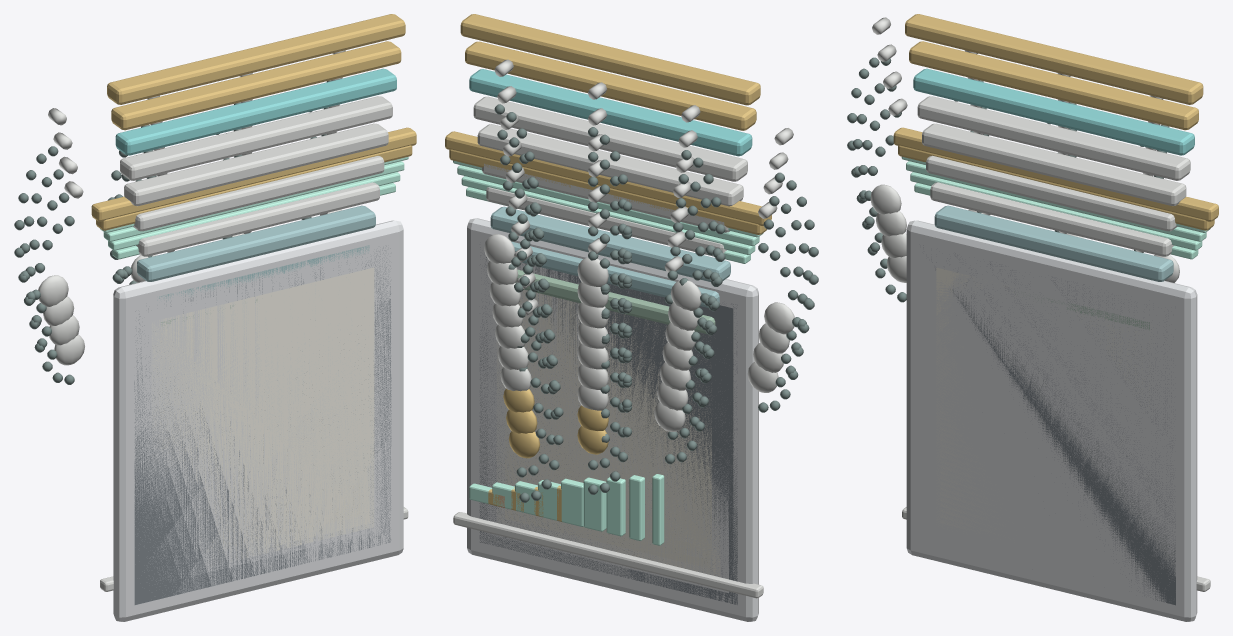
Rendered from Gear12.fbx.
The picture shows the model from 3 angles, left to right: view 1: azimuth 30°, elevation 25°; view 2: azimuth 150°, elevation 25°; view 3: azimuth 330°, elevation 25°; orthographic projection.
Parts seen in each view (by area): view 1: Gear12_V10_Platinum, Gear12_V4_Linen, Gear12_V3_Linen, Gear12_V8_Graphite, Gear12_V10_Gold, Gear12_V9_Platinum, Gear12_V9_Gold, Gear12_V7_Chrome, Gear12_V8_Aqua, Gear12_V6_Chrome, Gear12_V3_Blue, Gear12_V5_Platinum (+14 smaller); view 2: Gear12_V10_Platinum, Gear12_V2_Ivory, Gear12_V7_Graphite, Gear12_V10_Gold, Gear12_V7_Chrome, Gear12_V9_Gold, Gear12_V4_Linen, Gear12_V6_Chrome, Gear12_V6_Platinum, Gear12_V4_Chrome, Gear12_V8_Aqua, Gear12_V5_Chrome (+27 smaller); view 3: Gear12_V10_Platinum, Gear12_V8_Graphite, Gear12_V10_Gold, Gear12_V9_Gold, Gear12_V7_Chrome, Gear12_V8_Aqua, Gear12_V6_Chrome, Gear12_V3_Blue, Gear12_V4_Chrome, Gear12_V5_Chrome, Gear12_V8_Glow, Gear12_V10_Chrome (+10 smaller).
Boxes of the visible parts, box(x1,y1,x2,y2) form: Gear12_V10_Platinum: box(113, 220, 403, 621); Gear12_V4_Linen: box(151, 267, 374, 567); Gear12_V3_Linen: box(155, 313, 369, 552); Gear12_V8_Graphite: box(134, 246, 391, 604); Gear12_V10_Gold: box(91, 14, 416, 221); Gear12_V9_Platinum: box(131, 237, 395, 585); Gear12_V9_Gold: box(96, 41, 412, 230); Gear12_V7_Chrome: box(54, 96, 392, 365); Gear12_V8_Aqua: box(115, 68, 396, 155); Gear12_V6_Chrome: box(124, 123, 388, 206); Gear12_V3_Blue: box(137, 205, 375, 281); Gear12_V5_Platinum: box(147, 308, 378, 580); Gear12_V10_Platinum: box(467, 218, 758, 621); Gear12_V2_Ivory: box(505, 291, 711, 568); Gear12_V7_Graphite: box(485, 257, 733, 598); Gear12_V10_Gold: box(445, 14, 771, 225); Gear12_V7_Chrome: box(467, 96, 778, 594); Gear12_V9_Gold: box(449, 41, 766, 234); Gear12_V4_Linen: box(496, 290, 720, 575); Gear12_V6_Chrome: box(471, 124, 743, 593); Gear12_V6_Platinum: box(488, 269, 728, 592); Gear12_V4_Chrome: box(480, 187, 730, 590); Gear12_V8_Aqua: box(469, 69, 752, 156); Gear12_V5_Chrome: box(476, 163, 734, 592); Gear12_V10_Platinum: box(906, 220, 1197, 621); Gear12_V8_Graphite: box(923, 245, 1175, 605); Gear12_V10_Gold: box(893, 14, 1218, 221); Gear12_V9_Gold: box(898, 41, 1214, 230); Gear12_V7_Chrome: box(887, 96, 1190, 282); Gear12_V8_Aqua: box(913, 68, 1194, 155); Gear12_V6_Chrome: box(922, 123, 1186, 205); Gear12_V3_Blue: box(934, 205, 1173, 281); Gear12_V4_Chrome: box(930, 182, 1174, 256); Gear12_V5_Chrome: box(926, 155, 1177, 231); Gear12_V8_Glow: box(910, 172, 1202, 250); Gear12_V10_Chrome: box(870, 17, 1210, 591).
Size of the model in its own units: 101 by 135 by 12.8.
